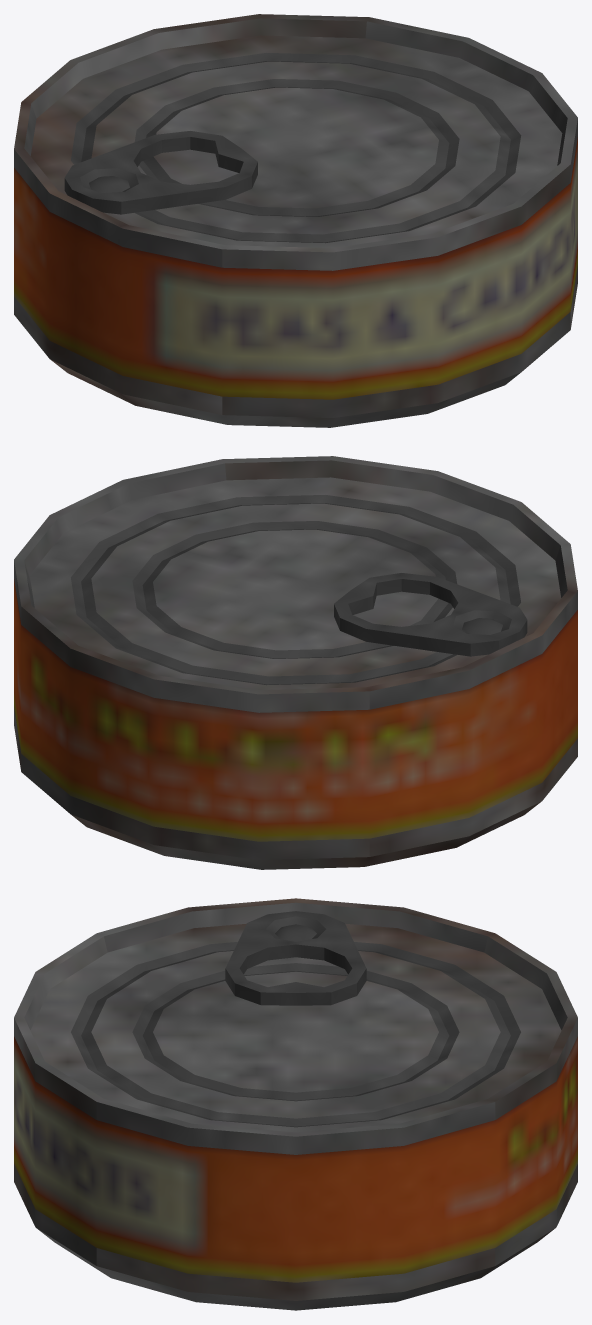
The model's file is canned_food_3.obj.
3 renders of one model, top to bottom at view 1: azimuth 30°, elevation 25°; view 2: azimuth 150°, elevation 25°; view 3: azimuth 270°, elevation 25°, orthographic.
Visible parts, largest first — view 1: canned_food_3; view 2: canned_food_3; view 3: canned_food_3.
Boxes of the visible parts, x1=… form: canned_food_3: x1=14, y1=14, x2=577, y2=427; canned_food_3: x1=14, y1=456, x2=577, y2=869; canned_food_3: x1=14, y1=898, x2=577, y2=1310.
Size of the model in its own units: 0.112 by 0.04 by 0.112.
